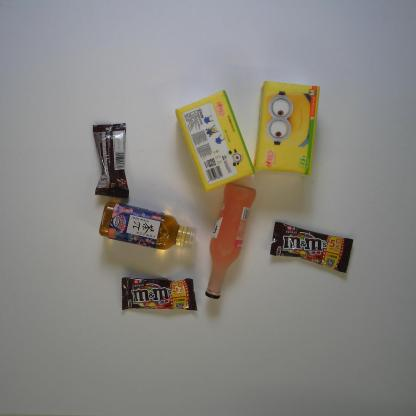Alcohol: (203, 180, 259, 301)
Chocolate: (267, 218, 356, 275), (118, 274, 201, 316), (90, 120, 130, 202)
Drink: (98, 200, 202, 252)
Tissue: (171, 86, 259, 197), (249, 75, 319, 181)
